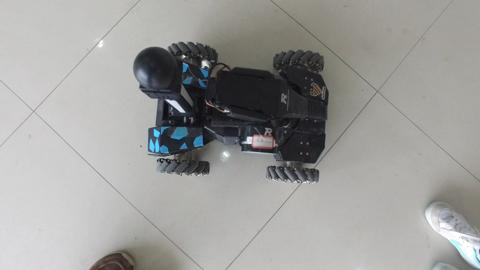chariot: (137, 38, 348, 180)
